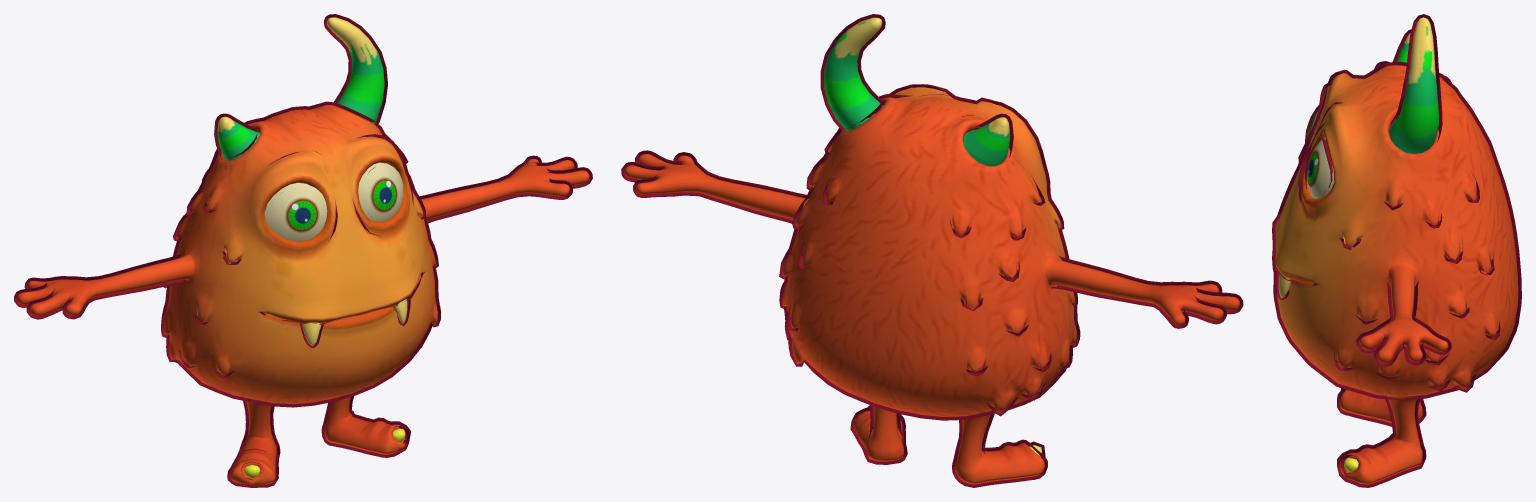
Rendered from kit_monster_b.glb.
3 views of the same model, side by side, from view 1: azimuth 30°, elevation 25°; view 2: azimuth 150°, elevation 25°; view 3: azimuth 270°, elevation 25° (orthographic). The views are drawn at different scales.
Visible parts, largest first — view 1: geo_monster_B_body, geo_monster_B_outLine, geo_monster_B_eyeR, geo_monster_B_eyeL; view 2: geo_monster_B_body, geo_monster_B_outLine; view 3: geo_monster_B_body, geo_monster_B_outLine, geo_monster_B_eyeL.
Boxes of the visible parts, <box> form: geo_monster_B_body: <box>17,17,589,484</box>; geo_monster_B_outLine: <box>14,14,592,487</box>; geo_monster_B_eyeR: <box>264,182,327,241</box>; geo_monster_B_eyeL: <box>358,162,403,222</box>; geo_monster_B_body: <box>624,17,1239,484</box>; geo_monster_B_outLine: <box>621,14,1243,487</box>; geo_monster_B_body: <box>1275,17,1518,484</box>; geo_monster_B_outLine: <box>1272,14,1521,487</box>; geo_monster_B_eyeL: <box>1307,137,1334,198</box>.
Size of the model in its own units: 0.8119 by 0.5781 by 0.2911.
Materials: 3 (2 with a texture image).
